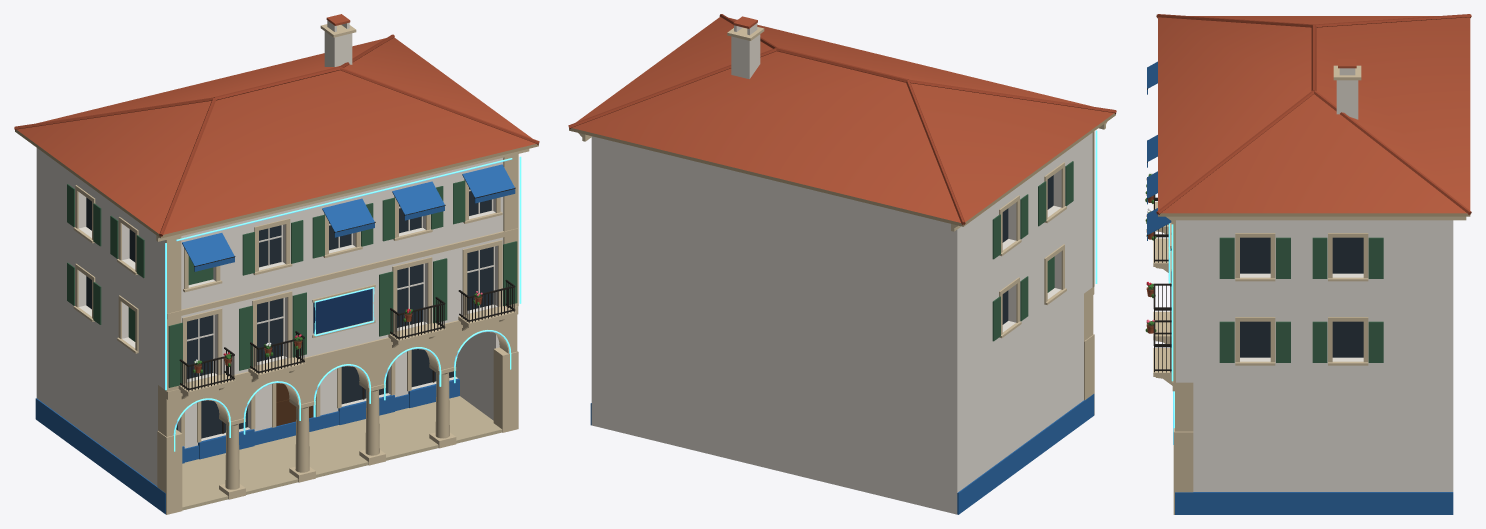
The picture shows the model from 3 angles, left to right: view 1: azimuth 30°, elevation 25°; view 2: azimuth 150°, elevation 25°; view 3: azimuth 270°, elevation 25°; orthographic projection. The views are drawn at different scales.
Visible parts, largest first — view 1: projects.lod0; view 2: projects.lod0; view 3: projects.lod0.
Boxes of the visible parts, x1=… form: projects.lod0: x1=14, y1=14, x2=539, y2=514; projects.lod0: x1=568, y1=14, x2=1116, y2=514; projects.lod0: x1=1145, y1=14, x2=1471, y2=514.
Bounding box in the file's own units: 15.2 × 14.31 × 10.56.
